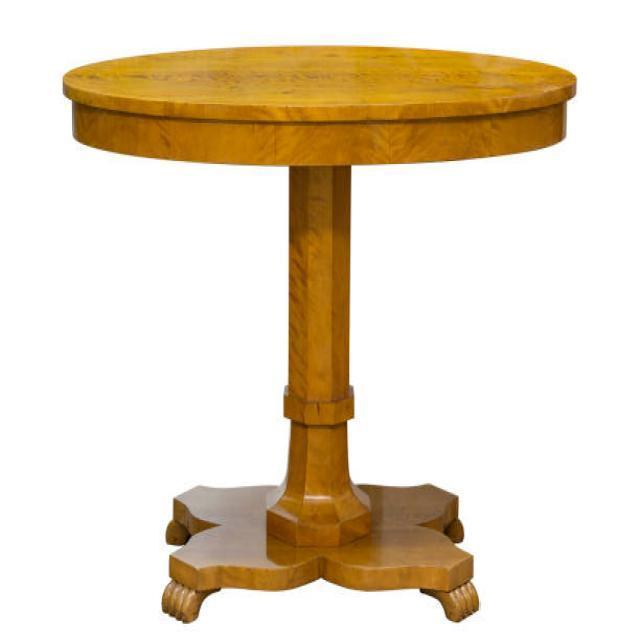table: (61, 42, 578, 624)
